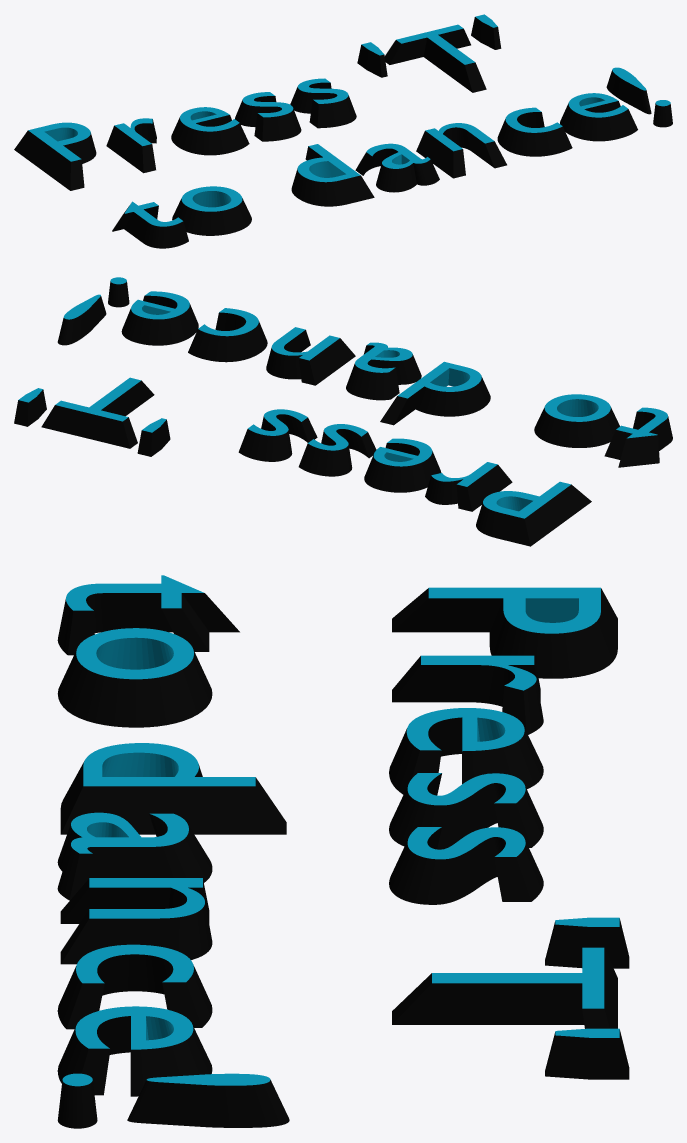
File: dance.fbx
3 renders of one model, top to bottom at view 1: azimuth 30°, elevation 25°; view 2: azimuth 150°, elevation 25°; view 3: azimuth 270°, elevation 25°, orthographic. The views are drawn at different scales.
Visible parts, largest first — view 1: Text.002; view 2: Text.002; view 3: Text.002.
Boxes of the visible parts, x1=… form: Text.002: x1=14, y1=14, x2=672, y2=248; Text.002: x1=14, y1=277, x2=672, y2=546; Text.002: x1=57, y1=575, x2=629, y2=1128.
Size of the model in its own units: 371 by 13.45 by 172.
